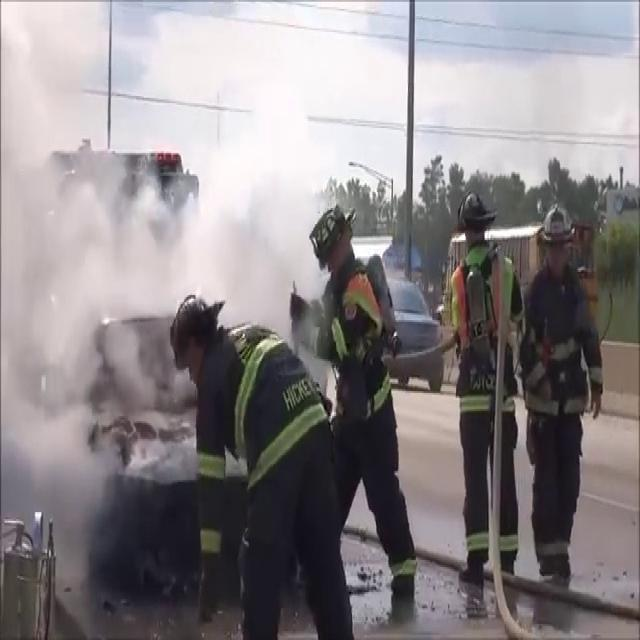Smoke: (0, 80, 196, 612), (2, 41, 332, 320)
